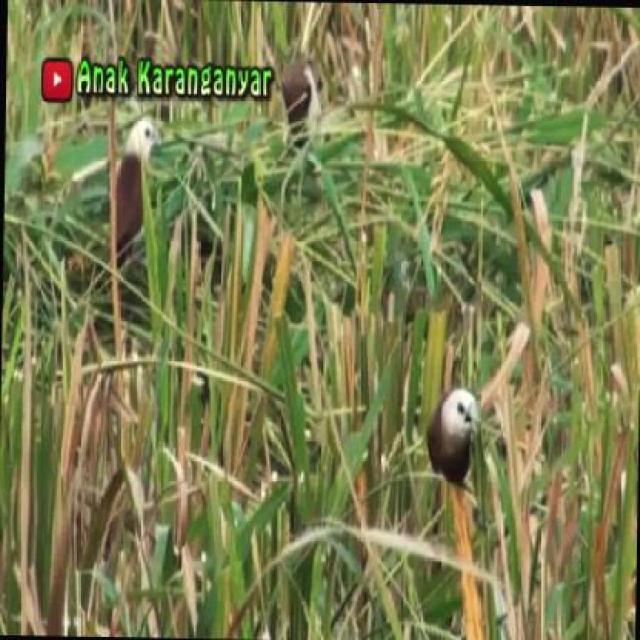Bird: (108, 114, 180, 262), (418, 382, 493, 506), (277, 49, 336, 153)
